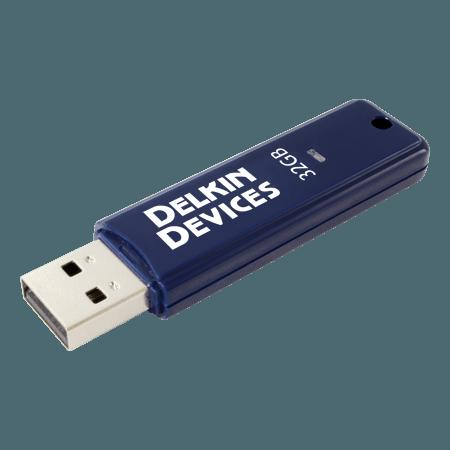USB Flash Drive: (19, 99, 431, 352)
